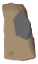bracelet: (1, 1, 38, 62)
